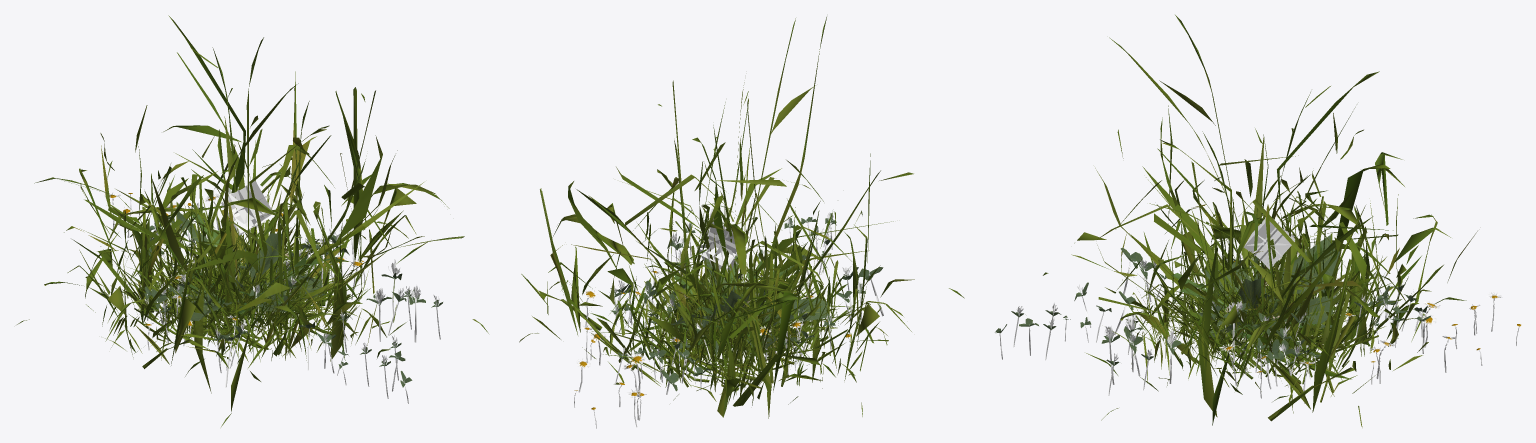
Rendered from meadow.glb.
3 views of the same model, side by side, from view 1: azimuth 30°, elevation 25°; view 2: azimuth 150°, elevation 25°; view 3: azimuth 270°, elevation 25° (orthographic). The views are drawn at different scales.
Parts seen in each view (by area): view 1: grass_wild_clump_01, grass_wild_clump_dry_01, clovers_03, grass_02, grass_clump_02, weed_02, dandelion_01, grass_clump_03, daisies, grass_duo_02, grass_tiny_01; view 2: grass_wild_clump_01, grass_wild_clump_dry_01, clovers_03, grass_02, daisies, grass_clump_03, grass_clump_02, dandelion_01, weed_02, grass_duo_02; view 3: grass_wild_clump_01, grass_wild_clump_dry_01, clovers_03, grass_02, weed_02, grass_clump_02, dandelion_01, daisies, grass_clump_03, grass_duo_02.
Boxes of the visible parts, x1,y1,x2,y2 form: grass_wild_clump_01: (34,87,464,368); grass_wild_clump_dry_01: (17,15,488,426); clovers_03: (141,202,442,403); grass_02: (86,242,406,376); grass_clump_02: (149,226,350,339); weed_02: (166,211,325,321); dandelion_01: (187,180,339,320); grass_clump_03: (150,222,326,342); daisies: (104,192,365,351); grass_duo_02: (117,235,326,350); grass_tiny_01: (154,273,350,355); grass_wild_clump_01: (521,153,914,417); grass_wild_clump_dry_01: (519,17,964,418); clovers_03: (609,209,883,394); grass_02: (582,253,873,405); daisies: (574,267,851,428); grass_clump_03: (648,264,815,374); grass_clump_02: (644,264,837,362); dandelion_01: (667,223,794,347); weed_02: (671,259,829,348); grass_duo_02: (629,279,821,385); grass_wild_clump_01: (1074,105,1477,421); grass_wild_clump_dry_01: (1043,15,1398,427); clovers_03: (995,247,1430,395); grass_02: (1086,251,1424,401); weed_02: (1188,235,1340,337); grass_clump_02: (1160,256,1354,368); dandelion_01: (1172,215,1331,331); daisies: (1189,259,1521,403); grass_clump_03: (1205,259,1381,384); grass_duo_02: (1177,274,1363,380).
Bounding box in the file's own units: 0.7753 × 0.7 × 0.921.
11 materials, 7 textured.
